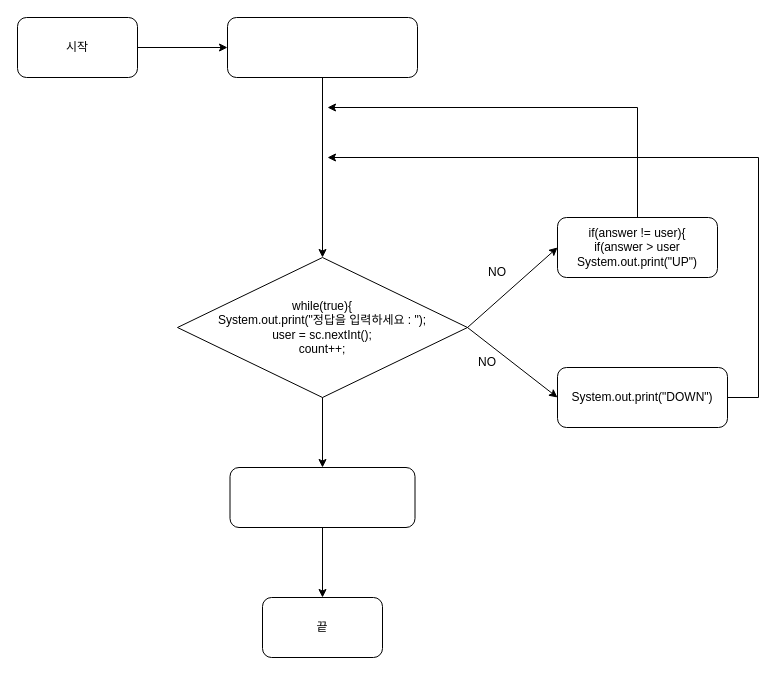
Some shapes in this 784 by 675 pixel diagram are drawn without their labels. Each missing label, with the box of its shape:
answer = ran.nextInt(100)+1; int user ; int count;: (226, 16, 418, 78)
System.out.printf("정답입니다. (%d번만에 정답입니다"count);: (229, 466, 415, 528)
